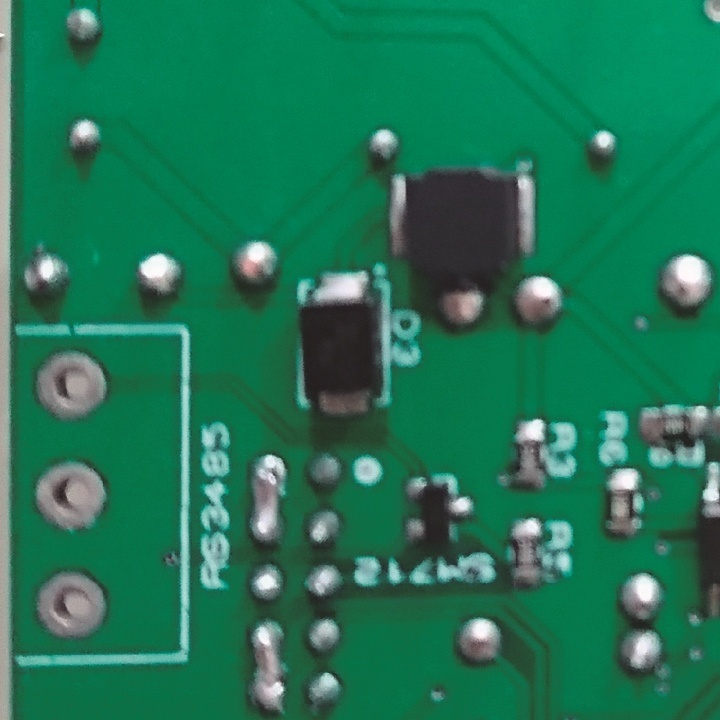F: (27, 345, 116, 423), (27, 460, 113, 536), (30, 569, 112, 642)
P: (249, 619, 290, 712), (249, 452, 286, 546)
